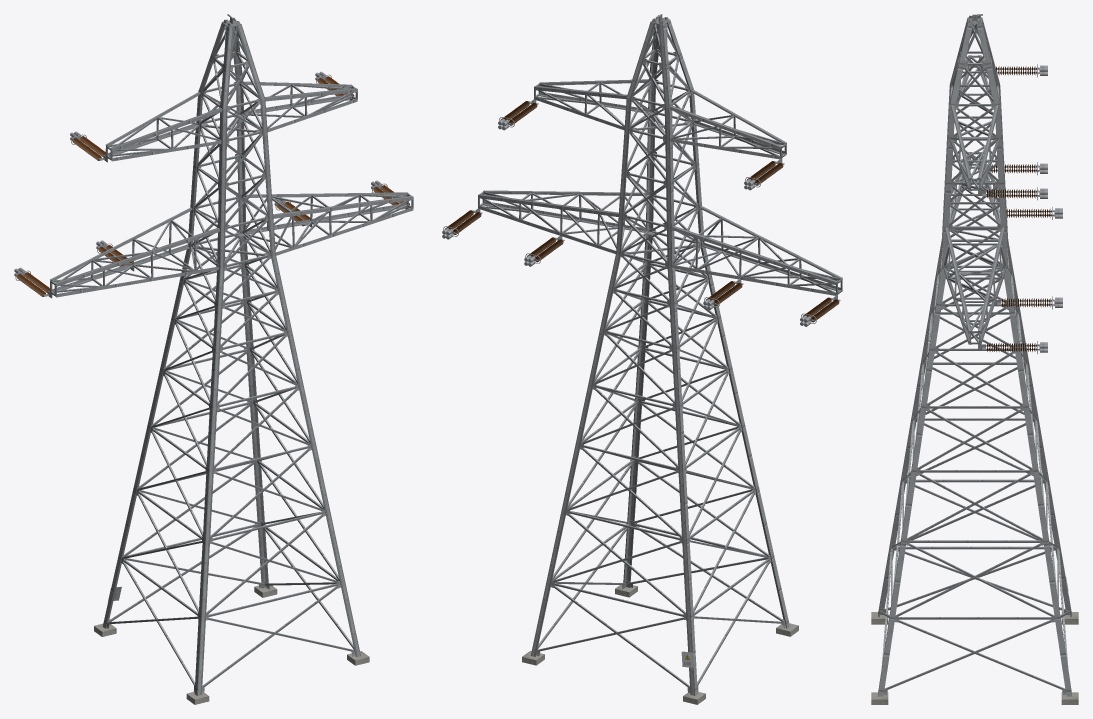
The model's file is lattice_terminal.obj.
3 renders of one model, left to right at view 1: azimuth 30°, elevation 25°; view 2: azimuth 150°, elevation 25°; view 3: azimuth 270°, elevation 25°, orthographic. The views are drawn at different scales.
Parts seen in each view (by area): view 1: body, arm, footing; view 2: body, arm, footing; view 3: body, arm, footing, insulator_3.
Part boxes in pixels (x1,y1,x2,y2): body: [102, 17, 360, 695]; arm: [50, 81, 413, 297]; footing: [94, 585, 369, 704]; body: [530, 15, 789, 695]; arm: [478, 79, 842, 295]; footing: [522, 585, 798, 704]; body: [878, 15, 1071, 696]; arm: [943, 55, 1006, 344]; footing: [871, 612, 1078, 704]; insulator_3: [1002, 298, 1051, 307].
Bounding box in the file's own units: 7.11 × 11.5 × 3.34.
